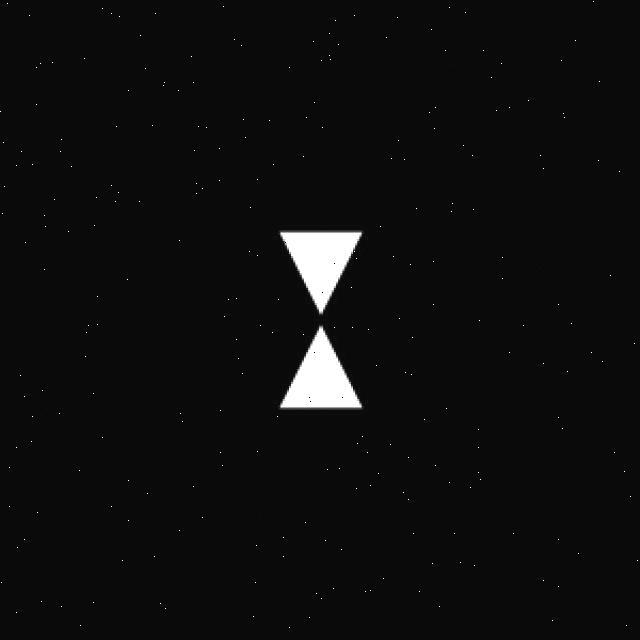Gate Valve: (228, 185, 407, 460)
